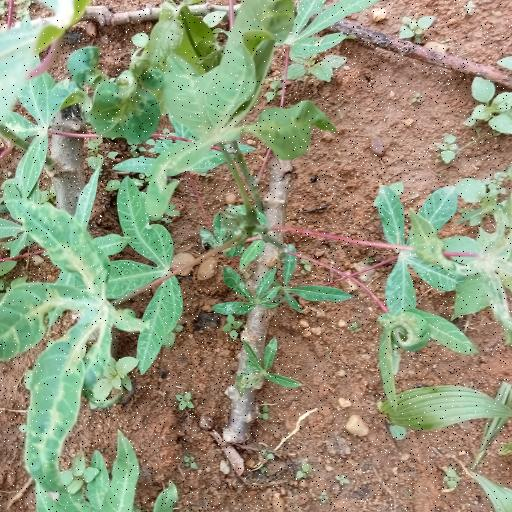Cassava_Mosaic: (0, 198, 118, 512), (160, 31, 320, 167), (377, 181, 512, 307), (104, 180, 184, 371), (10, 73, 58, 196)
